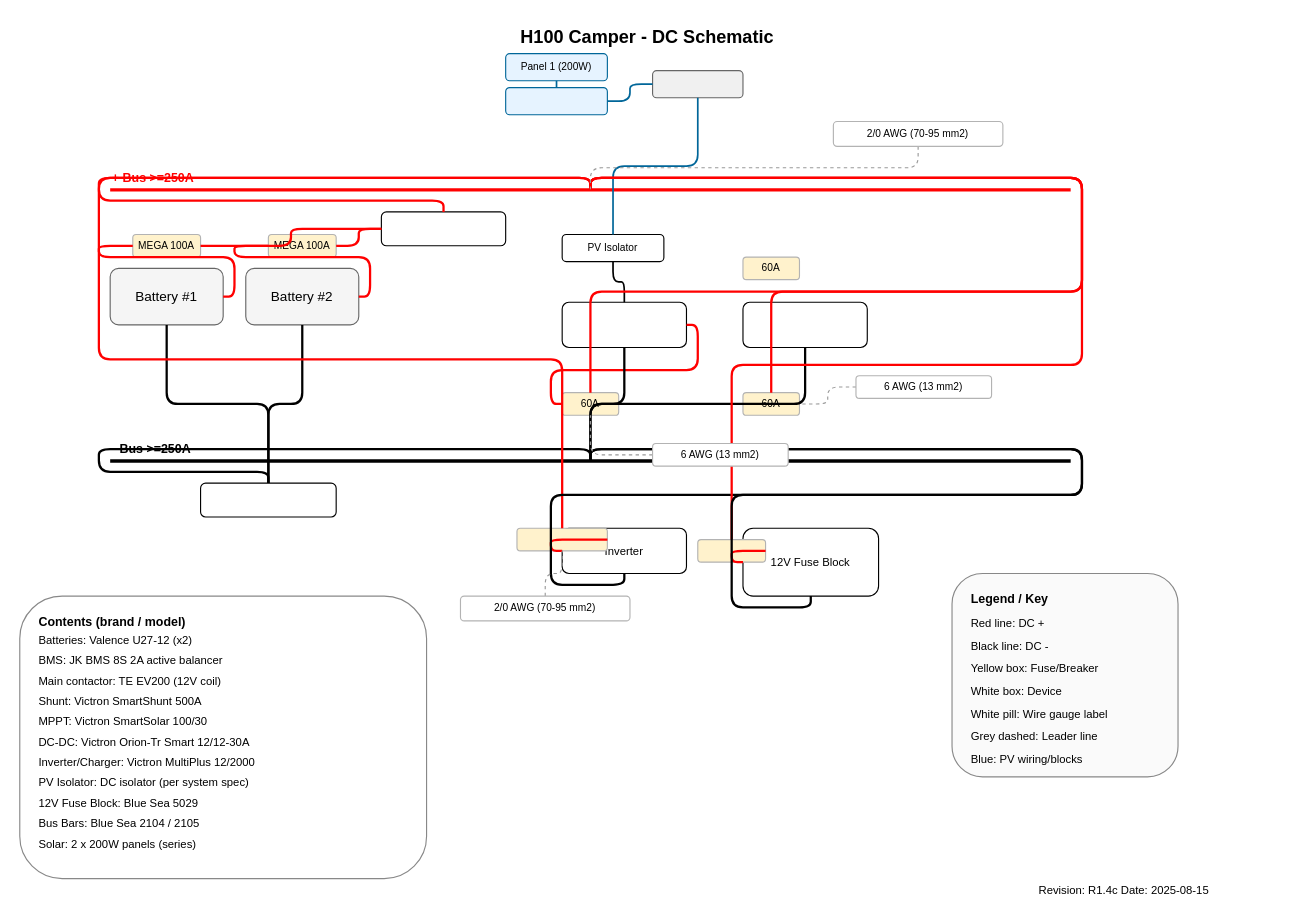
The diagram is 1305 pixels wide and 920 high, and some of its shapes have lost their labels. The shapes that lost their labels are listed below. From the top down, each one's centre as x and y in pixels, then its label:
point 556,100: Panel 2 (200W)
point 697,83: Roof gland
point 443,228: Contactor >=200A
point 623,324: MPPT
point 804,324: DC-DC
point 267,499: SmartShunt 500A
point 561,539: Class-T 200A
point 731,550: MIDI 60A
